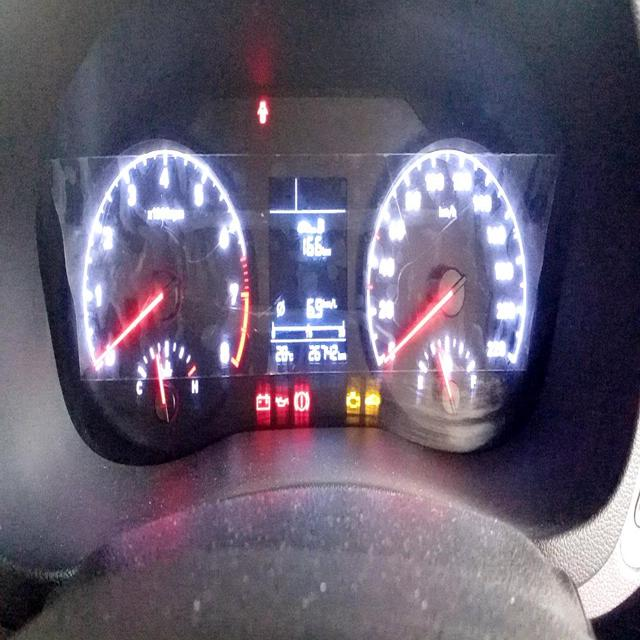odometer: (306, 340, 339, 365)
